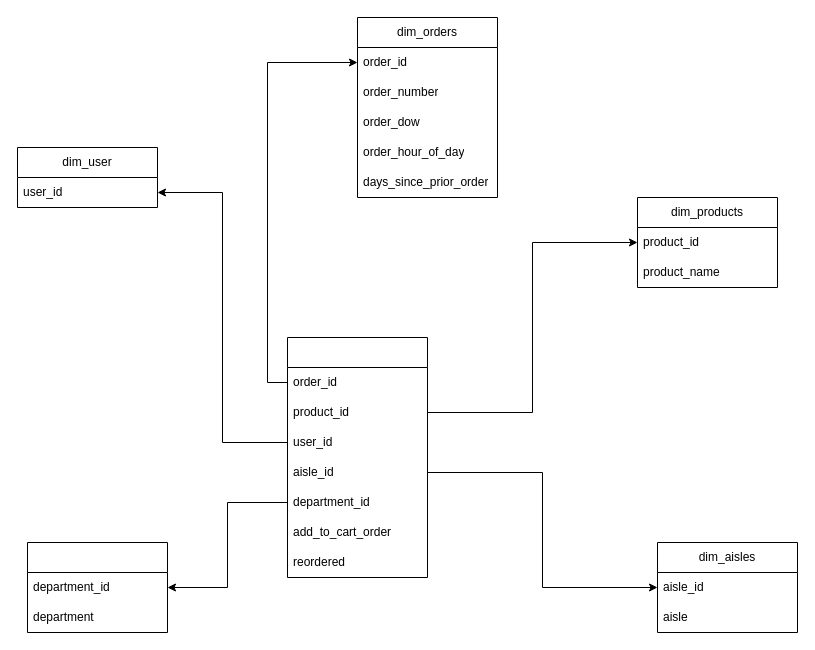
Image size: 815x650. Some labels were removed from this diagram. The shapes that lost their labels are listed below. From the top down, each one's box as (x1, y1, x2, y2) in pixels, then its label:
(286, 336, 428, 578): fact_order_products
(26, 542, 168, 632): dim_departments
